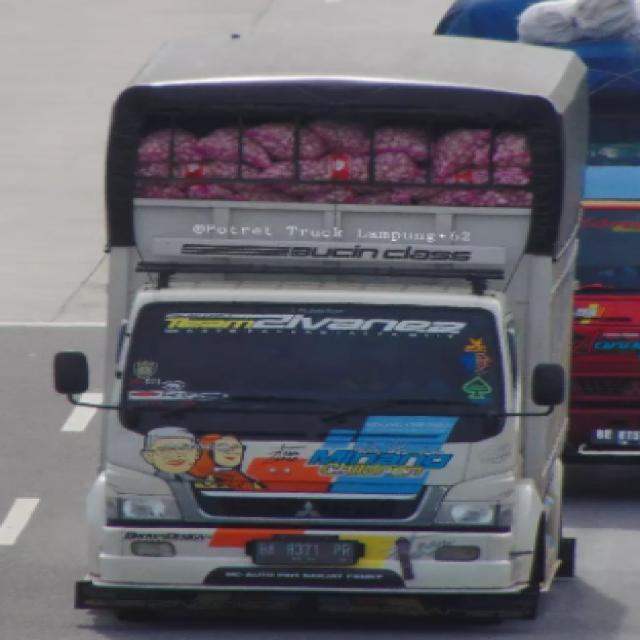truck: (53, 29, 604, 628)
